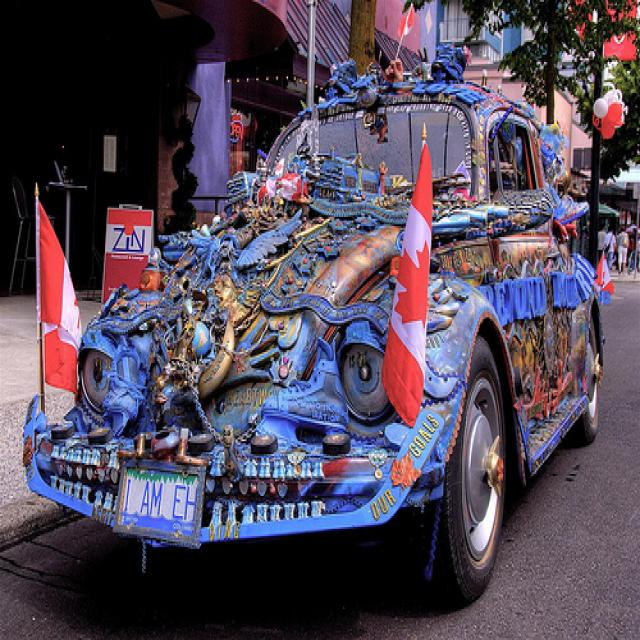Car: (16, 60, 608, 591)
